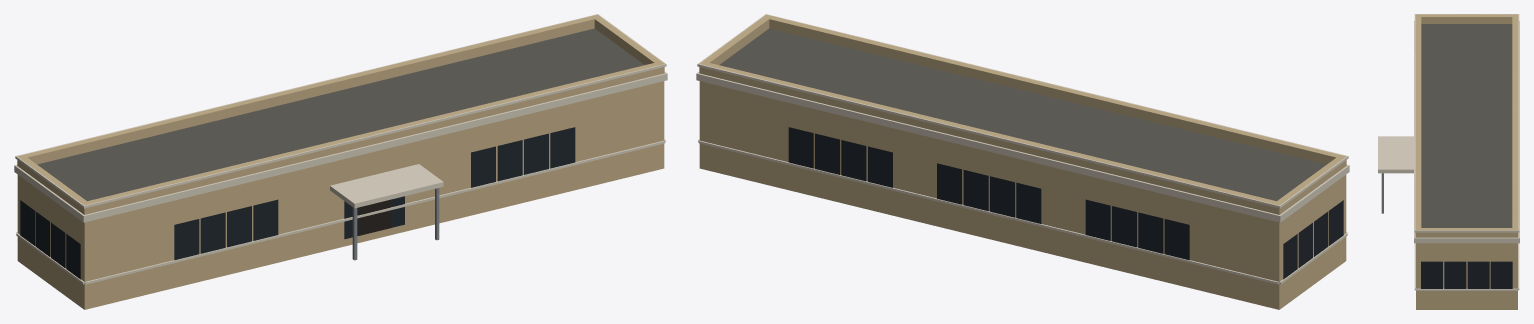
File: asd-vocational-school-1961.glb
3 renders of one model, left to right at view 1: azimuth 30°, elevation 25°; view 2: azimuth 150°, elevation 25°; view 3: azimuth 270°, elevation 25°, orthographic. The views are drawn at different scales.
Parts seen in each view (by area): view 1: kit-asd-vocational-school-1961; view 2: kit-asd-vocational-school-1961; view 3: kit-asd-vocational-school-1961.
Boxes of the visible parts, x1,y1,x2,y2 form: kit-asd-vocational-school-1961: (14, 14, 667, 309); kit-asd-vocational-school-1961: (696, 14, 1349, 309); kit-asd-vocational-school-1961: (1378, 14, 1519, 309).
Bounding box in the file's own units: 32.74 × 5.6 × 9.02.
